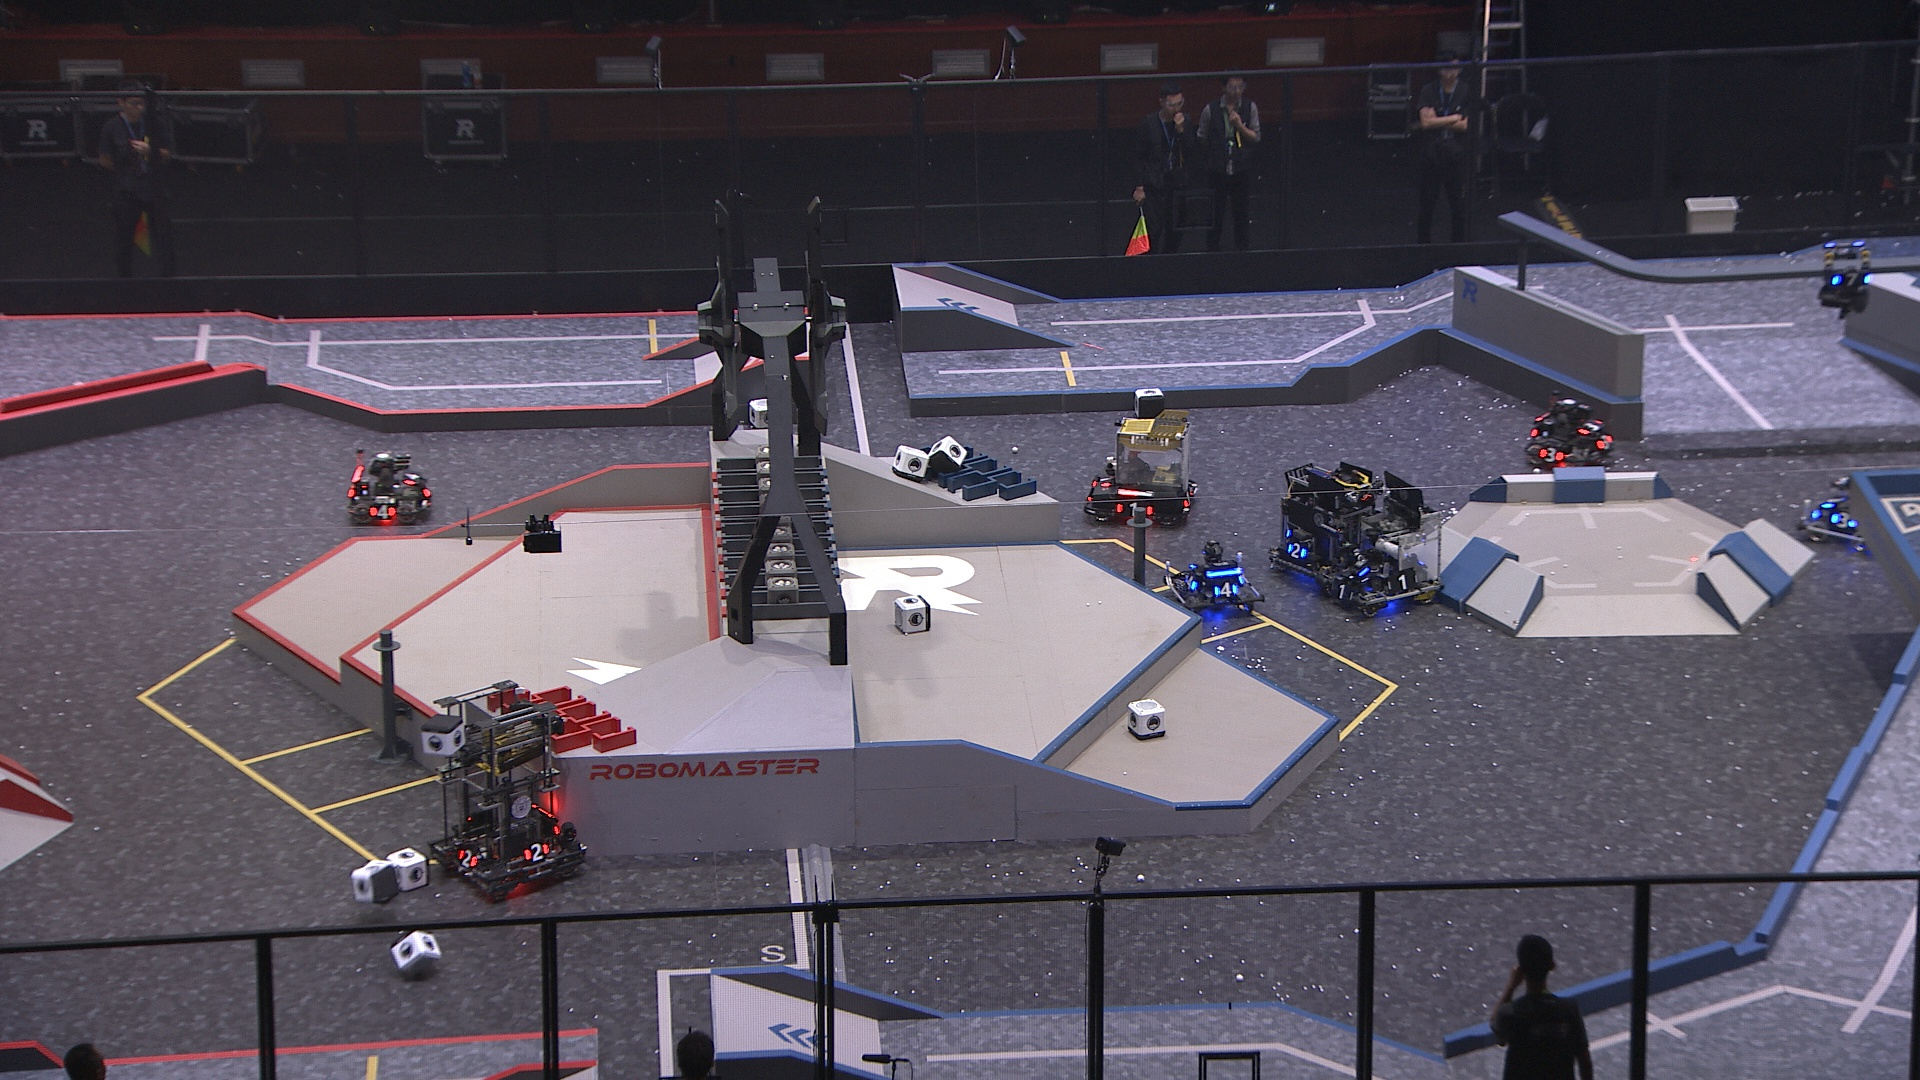armor: (1327, 578, 1356, 605), (1828, 268, 1870, 286), (1385, 572, 1420, 593), (1117, 500, 1153, 520), (524, 840, 550, 864), (1832, 512, 1859, 531), (455, 847, 476, 869), (1538, 446, 1564, 463), (1578, 417, 1604, 434), (1212, 580, 1237, 597), (1284, 542, 1307, 560), (404, 467, 423, 487), (371, 505, 396, 520), (1821, 495, 1844, 510), (1182, 572, 1199, 591), (1598, 434, 1613, 451), (1183, 491, 1195, 506)
car: (433, 678, 589, 899), (1321, 469, 1448, 618), (1265, 451, 1394, 583), (1084, 406, 1195, 531), (1520, 392, 1621, 473), (1803, 471, 1898, 556), (1166, 542, 1266, 622), (343, 450, 436, 526)
watcher: (1818, 237, 1875, 319)
